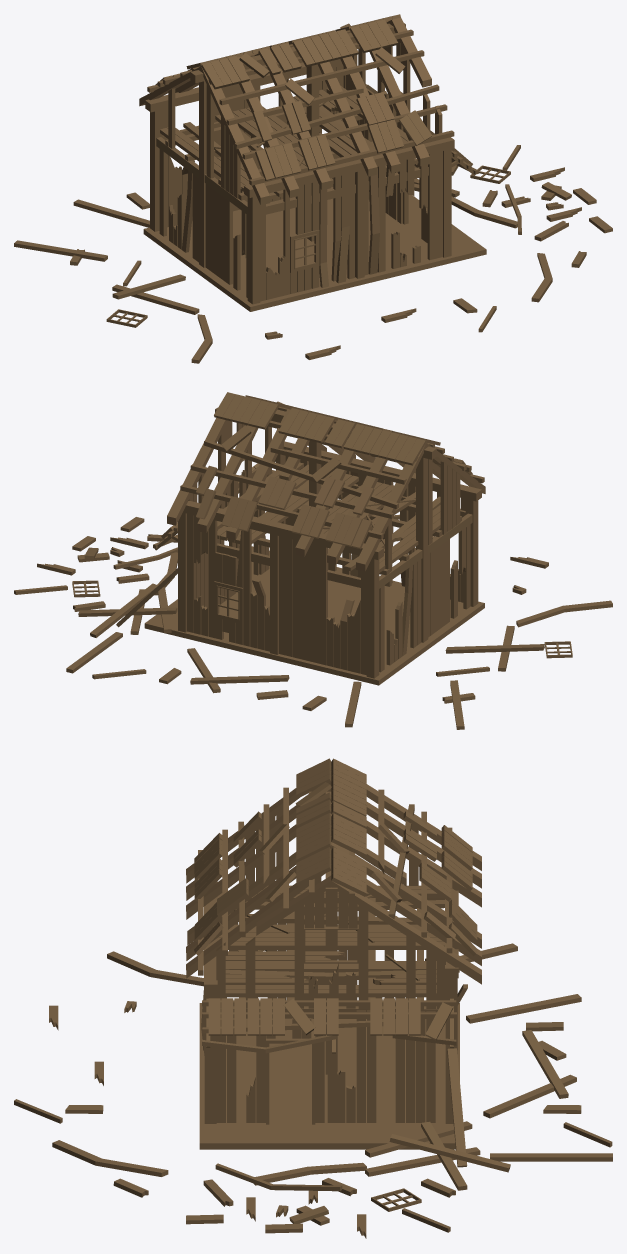
File: house1.fbx
3 renders of one model, top to bottom at view 1: azimuth 30°, elevation 25°; view 2: azimuth 150°, elevation 25°; view 3: azimuth 270°, elevation 25°, orthographic. The views are drawn at different scales.
Visible parts, largest first — view 1: polySurface53; view 2: polySurface53; view 3: polySurface53.
Boxes of the visible parts, x1=… form: polySurface53: x1=14, y1=14, x2=612, y2=363; polySurface53: x1=14, y1=392, x2=612, y2=729; polySurface53: x1=14, y1=758, x2=612, y2=1238.
Size of the model in its own units: 1565 by 632 by 1334.
